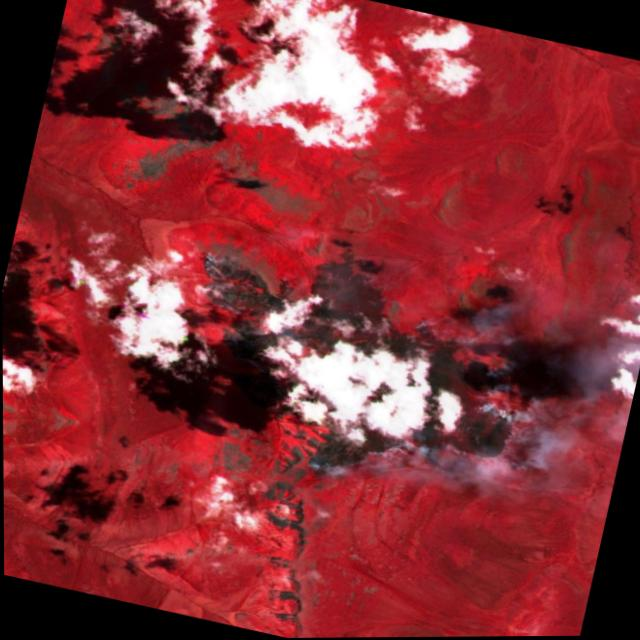fire: (148, 205, 568, 525)
